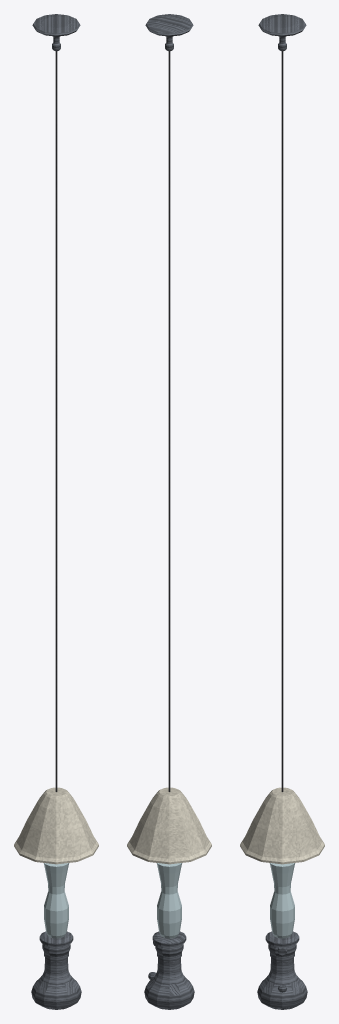
File: kerosene_lamp.fbx
The picture shows the model from 3 angles, left to right: view 1: azimuth 90°, elevation 25°; view 2: azimuth 150°, elevation 25°; view 3: azimuth 270°, elevation 25°; orthographic projection.
Parts seen in each view (by area): view 1: kerosene_lamp; view 2: kerosene_lamp; view 3: kerosene_lamp.
Part boxes in pixels (x1=…): kerosene_lamp: x1=14, y1=14, x2=98, y2=1009; kerosene_lamp: x1=127, y1=14, x2=211, y2=1009; kerosene_lamp: x1=240, y1=14, x2=324, y2=1009.
Bounding box in the file's own units: 31 × 396 × 31.
